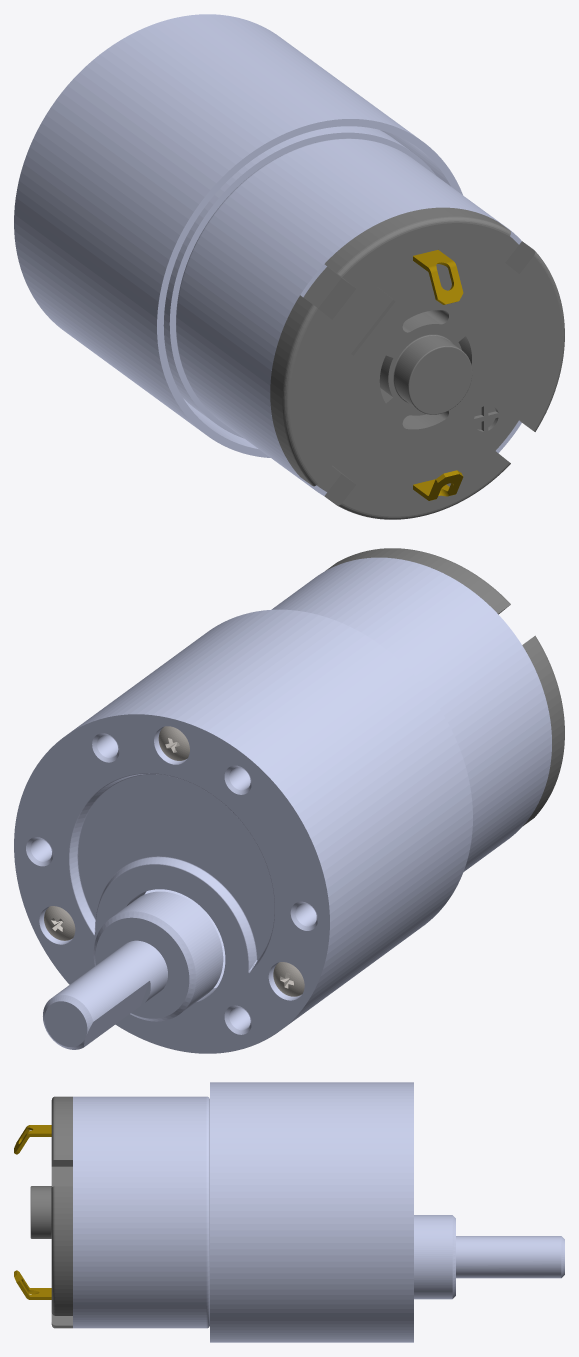
Rendered from SLAM Mechanical_URDF-Right_Motor_JGB37-521.dae.
3 views of the same model, one above another, from view 1: azimuth 30°, elevation 25°; view 2: azimuth 150°, elevation 25°; view 3: azimuth 270°, elevation 25° (orthographic). The views are drawn at different scales.
Parts seen in each view (by area): view 1: node0, node5, node1, node4, node7, node6; view 2: node0, node1, node3, node2, node5, node10, node9, node8; view 3: node0, node1, node5, node2, node3, node6, node7.
Boxes of the visible parts, left/top/right/bottom form: node0: left=14, top=14, right=462, bottom=457; node5: left=270, top=207, right=564, bottom=519; node1: left=176, top=138, right=521, bottom=495; node4: left=163, top=126, right=435, bottom=438; node7: left=413, top=250, right=463, bottom=304; node6: left=413, top=470, right=463, bottom=500; node0: left=14, top=609, right=472, bottom=1053; node1: left=272, top=557, right=551, bottom=871; node3: left=93, top=891, right=223, bottom=1021; node2: left=43, top=940, right=167, bottom=1049; node5: left=325, top=548, right=564, bottom=825; node10: left=44, top=906, right=75, bottom=940; node9: left=158, top=726, right=189, bottom=760; node8: left=273, top=962, right=304, bottom=996; node0: left=210, top=1082, right=413, bottom=1342; node1: left=73, top=1096, right=209, bottom=1328; node5: left=30, top=1096, right=72, bottom=1328; node2: left=456, top=1236, right=564, bottom=1278; node3: left=414, top=1215, right=455, bottom=1299; node6: left=14, top=1270, right=51, bottom=1299; node7: left=14, top=1125, right=51, bottom=1154.
Size of the model in its own units: 0.037 by 0.0784 by 0.037.
